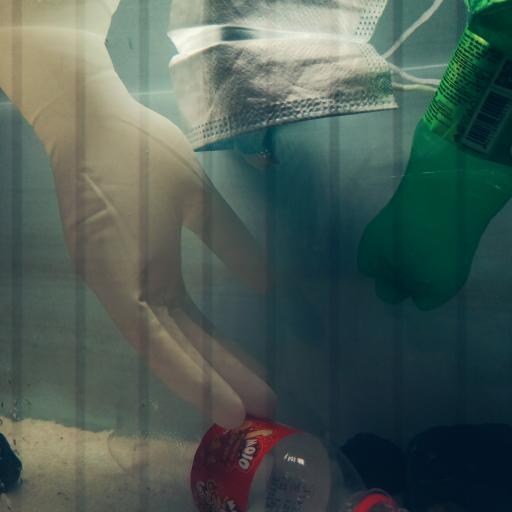glove: (3, 39, 280, 430)
mask: (170, 36, 460, 171)
plastic_bottle: (356, 0, 512, 312), (107, 389, 408, 512)
